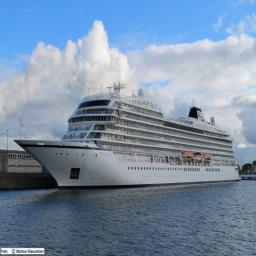cruises: (14, 82, 244, 192)
